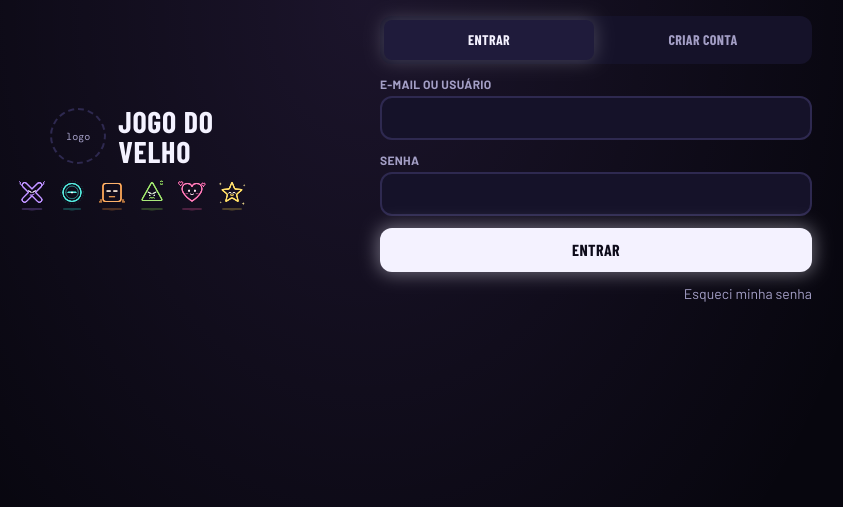
Test: Criar conta › valida tamanho do usuário, e-mail e senha antes de enviar
Click the tab "Criar conta".
click(703, 40)  # box [598, 20, 808, 60]
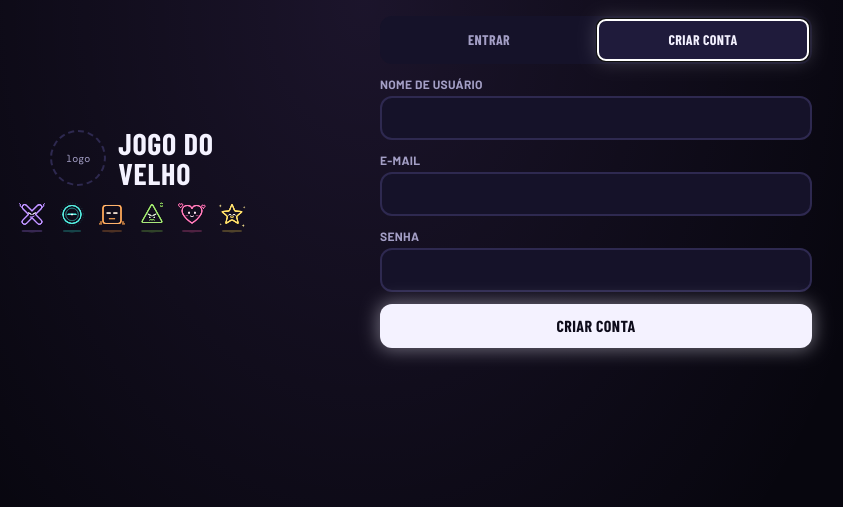
Type "ab" into the field labelled "Nome de usuário".
click(596, 118); type("ab")  # box [380, 96, 812, 140]
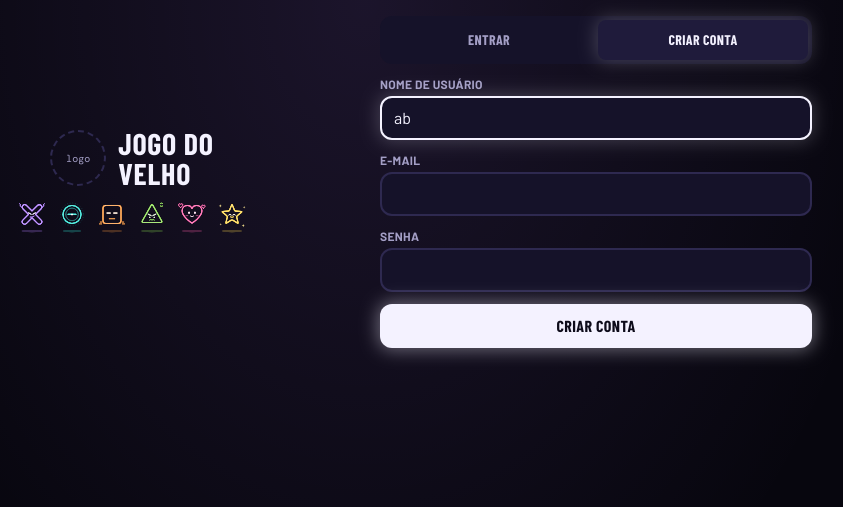
Type "vini@fatec" into the field labelled "E-mail".
click(596, 194); type("vini@fatec")  # box [380, 172, 812, 216]
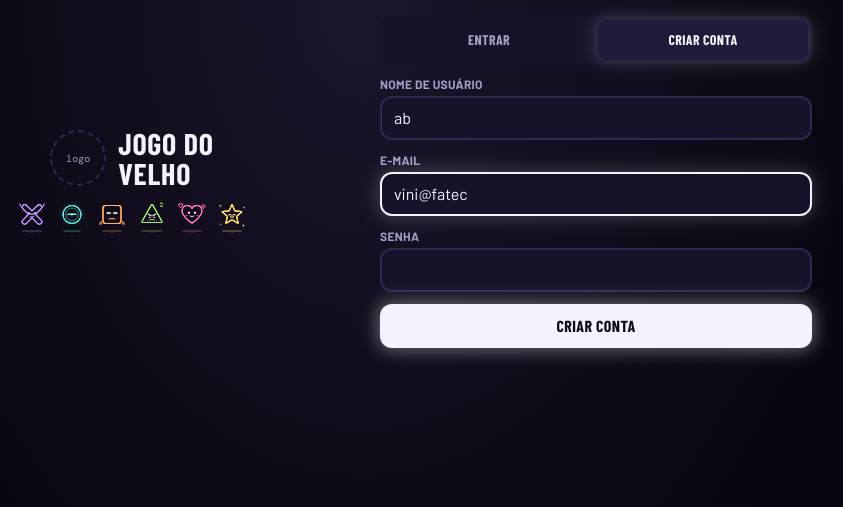
Type "123" into the password field labelled "Senha".
click(596, 270); type("123")  # box [380, 248, 812, 292]
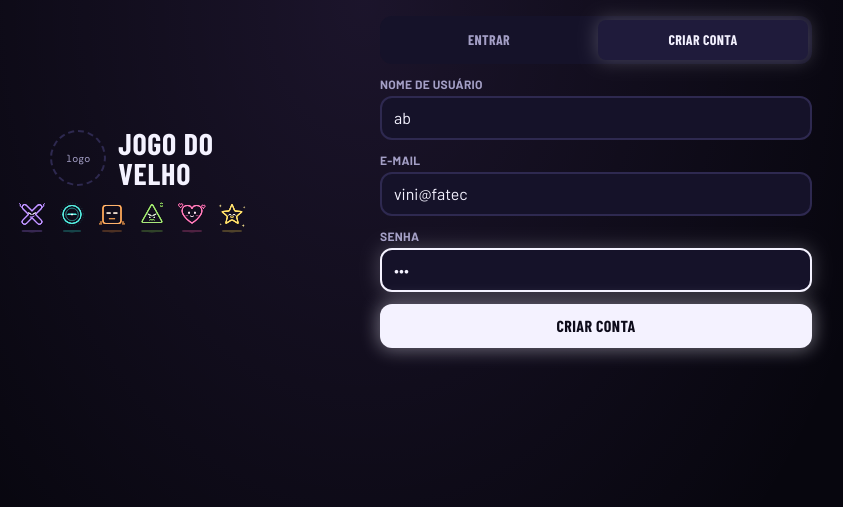
Click the button "Criar conta".
click(596, 326)  # box [380, 304, 812, 348]
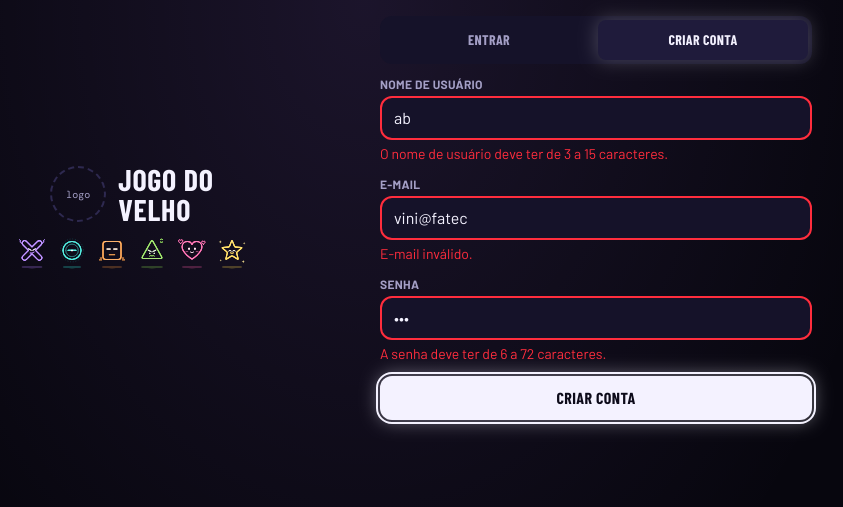
Check: the text "O nome de usuário deve ter de 3 a 15 caracteres." is shown, box [380, 145, 668, 162]
Check: the text "E-mail inválido." is shown, box [380, 245, 473, 262]
Check: the text "A senha deve ter de 6 a 72 caracteres." is shown, box [380, 345, 606, 362]
